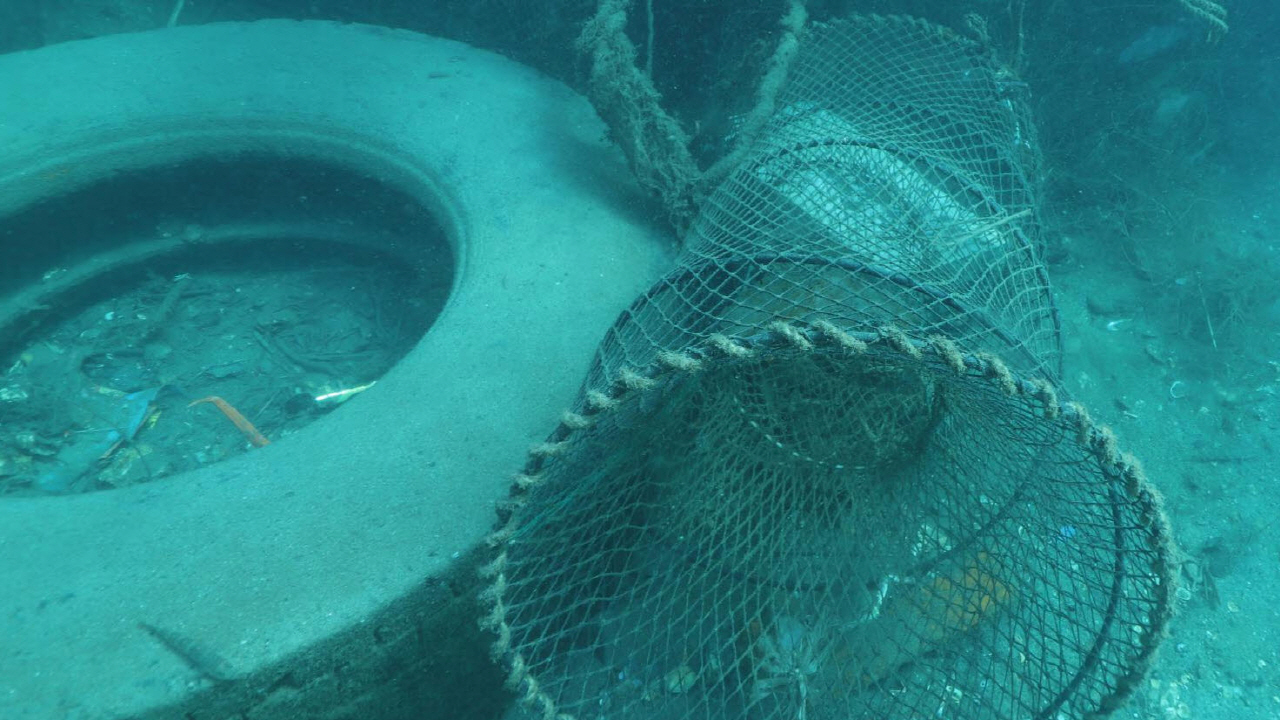spring fish trap: (473, 13, 1179, 720)
tire: (0, 18, 682, 720)
